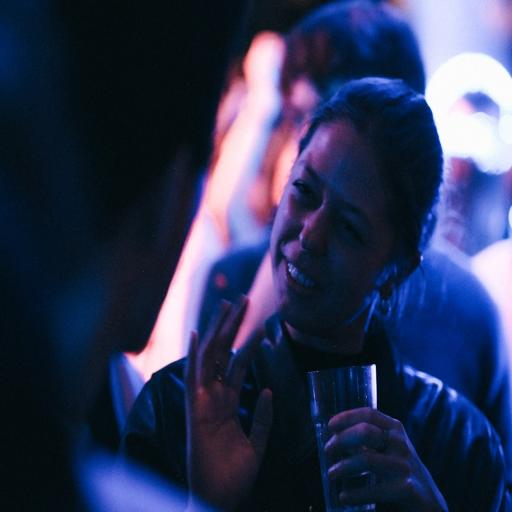face: (271, 121, 394, 340)
